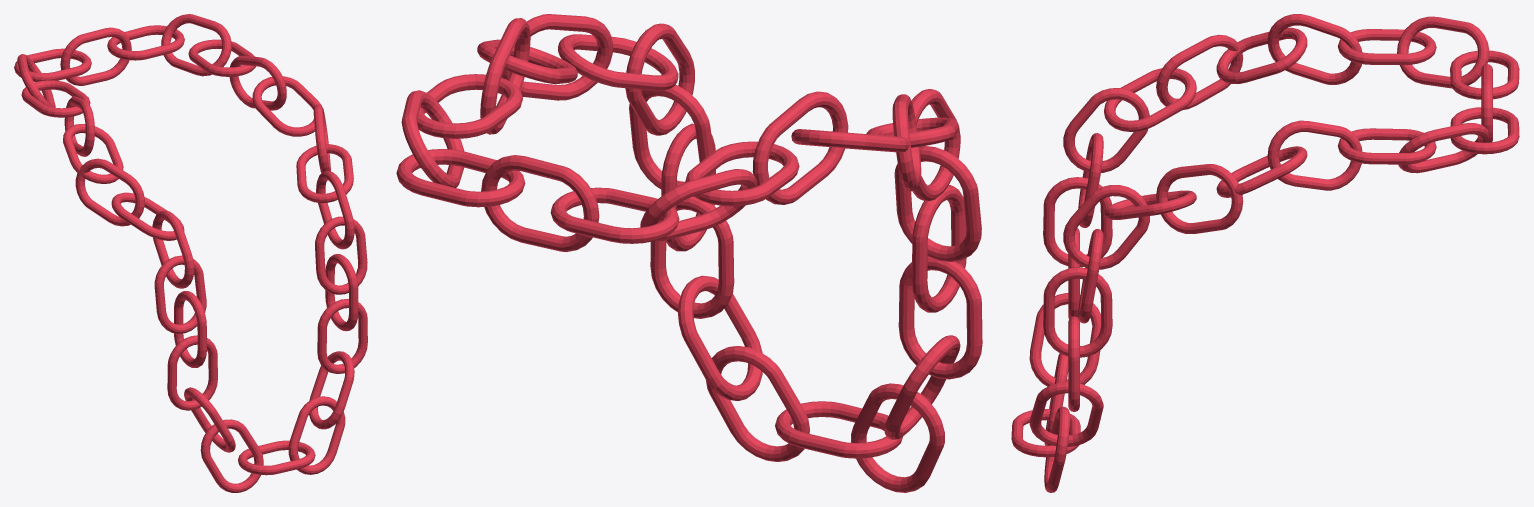
File: CHAIN.fbx
The picture shows the model from 3 angles, left to right: view 1: azimuth 30°, elevation 25°; view 2: azimuth 150°, elevation 25°; view 3: azimuth 270°, elevation 25°; orthographic projection. The views are drawn at different scales.
Parts seen in each view (by area): view 1: Torus.000; view 2: Torus.000; view 3: Torus.000.
Part boxes in pixels (x1,y1,x2,y2): Torus.000: (14, 14, 367, 492); Torus.000: (396, 14, 982, 492); Torus.000: (1011, 14, 1519, 492).
Bounding box in the file's own units: 23.32 × 29.2 × 33.65.
